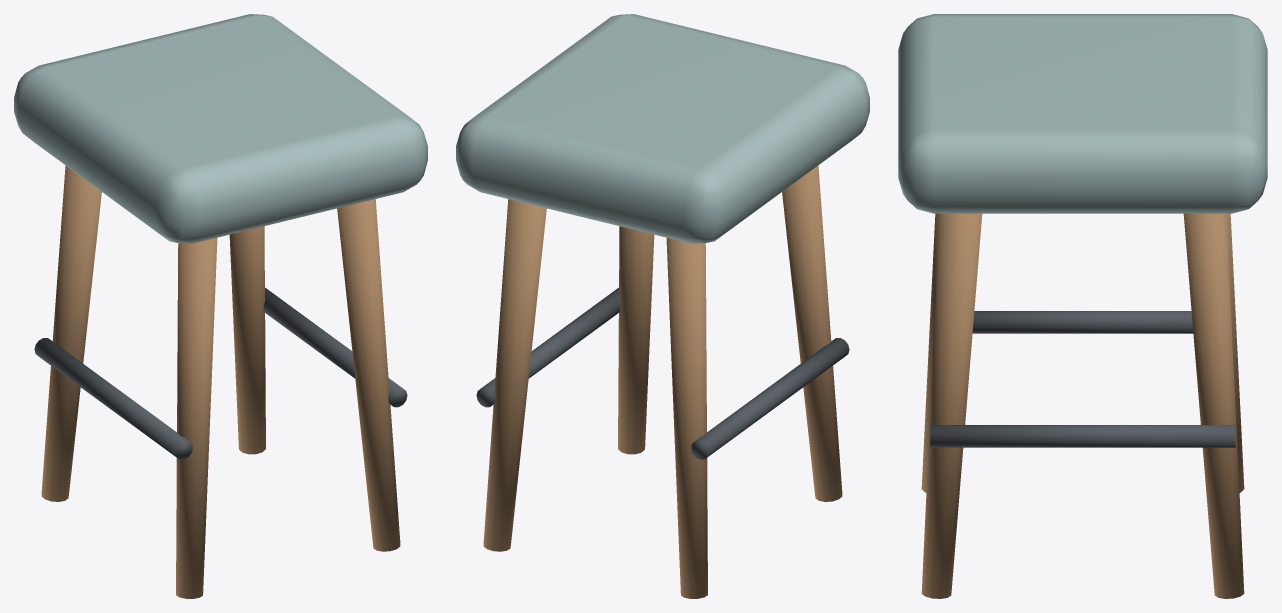
Rendered from atelier-bar-stool.glb.
The picture shows the model from 3 angles, left to right: view 1: azimuth 30°, elevation 25°; view 2: azimuth 150°, elevation 25°; view 3: azimuth 270°, elevation 25°; orthographic projection. The views are drawn at different scales.
Visible parts, largest first — view 1: fabric.015, legs.013, metal.003; view 2: fabric.015, legs.013, metal.003; view 3: fabric.015, legs.013, metal.003.
Part boxes in pixels (x1,y1,x2,y2): fabric.015: (14, 14, 427, 243); legs.013: (41, 166, 400, 598); metal.003: (34, 287, 407, 459); fabric.015: (456, 14, 869, 243); legs.013: (483, 166, 842, 598); metal.003: (476, 287, 849, 459); fabric.015: (898, 14, 1267, 213); legs.013: (921, 213, 1244, 598); metal.003: (930, 311, 1235, 447).
Size of the model in its own units: 0.53 by 0.812 by 0.58.
